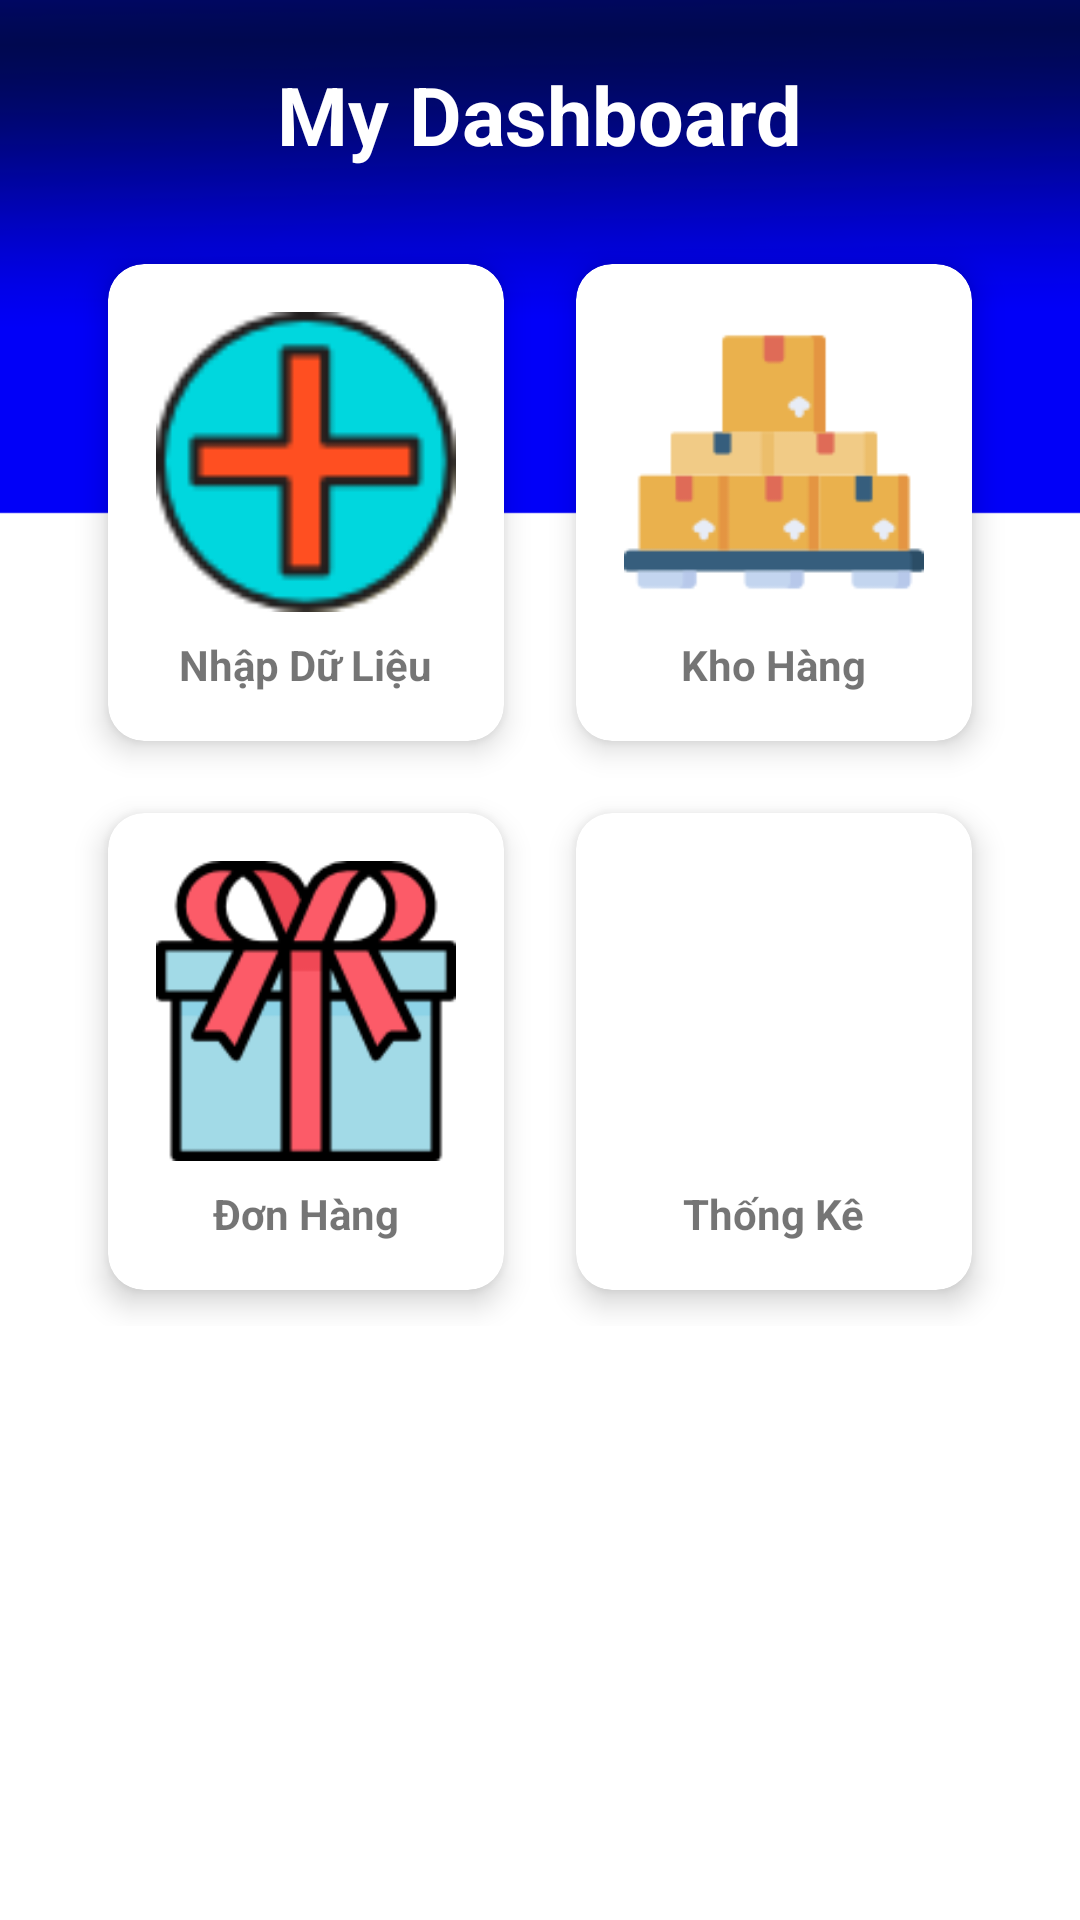

Where to tap for icons on this 1080 × 1920 app screen, as (x=x, y=y):
gift: (x=306, y=1011)
pallet: (x=774, y=462)
plus: (x=306, y=462)
